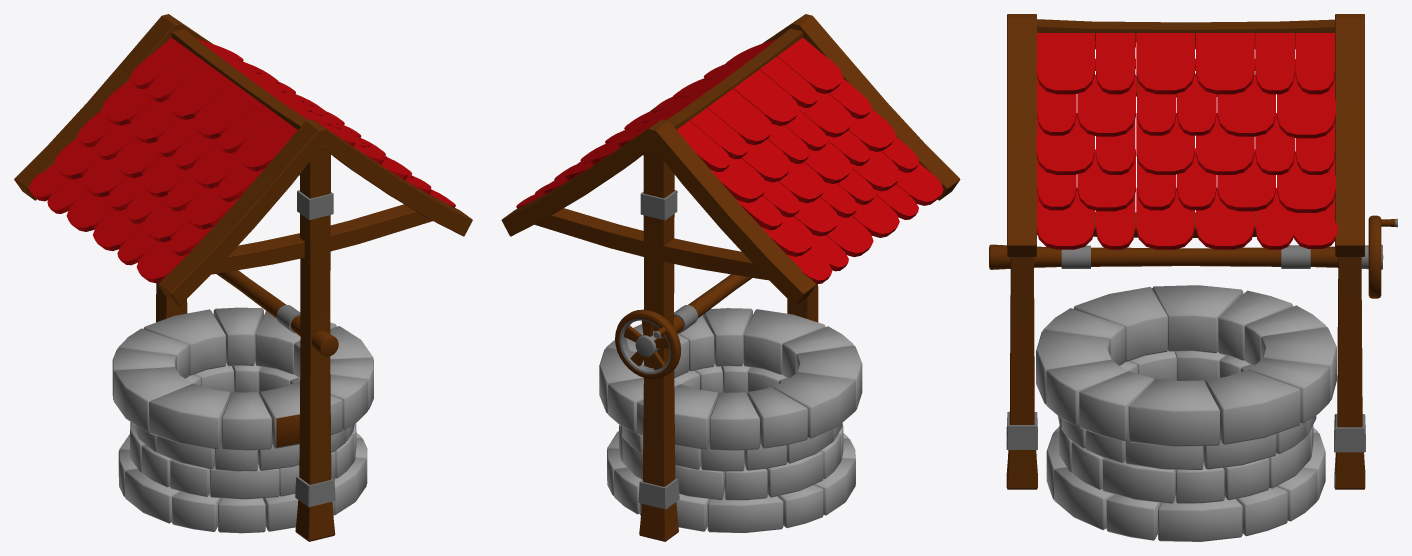
Rendered from Puits.fbx.
3 renders of one model, left to right at view 1: azimuth 30°, elevation 25°; view 2: azimuth 150°, elevation 25°; view 3: azimuth 270°, elevation 25°, orthographic. The views are drawn at different scales.
Visible parts, largest first — view 1: Briques.004; view 2: Briques.004; view 3: Briques.004.
Part boxes in pixels (x1=…): Briques.004: x1=14, y1=14, x2=472, y2=541; Briques.004: x1=501, y1=14, x2=960, y2=541; Briques.004: x1=989, y1=14, x2=1397, y2=541.
Bounding box in the file's own units: 175 × 223 × 177.
